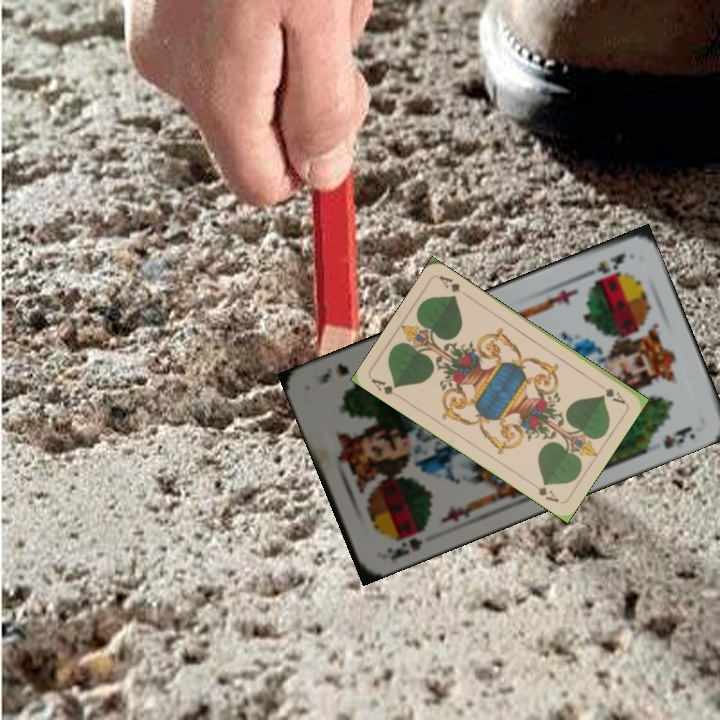GA: (368, 375, 405, 401), (601, 384, 628, 407)
SK: (577, 249, 629, 282), (382, 533, 426, 564)
